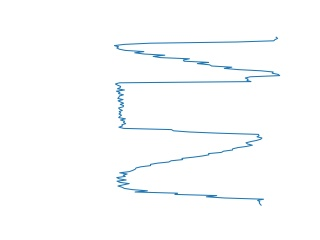distributaryChannelFill: (108, 71, 265, 142)
mouthBar: (109, 35, 284, 78)
underwaterDistributaryChannel: (111, 143, 269, 208)
